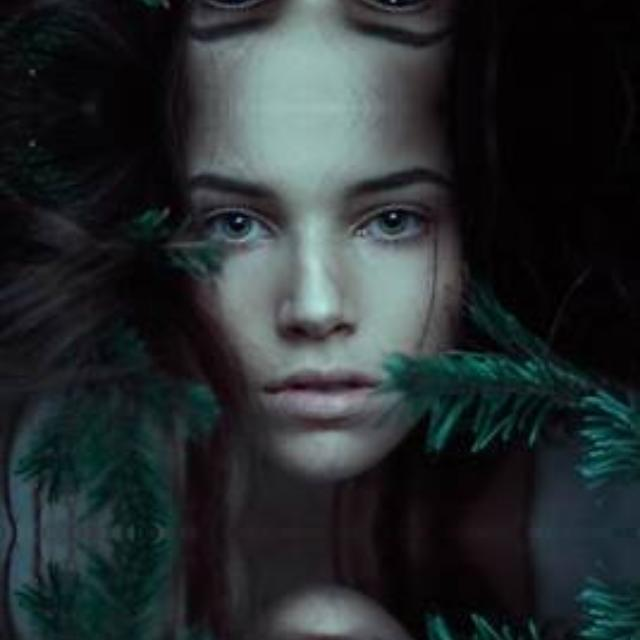person: (148, 107, 470, 461), (148, 0, 469, 107), (148, 603, 469, 640)
